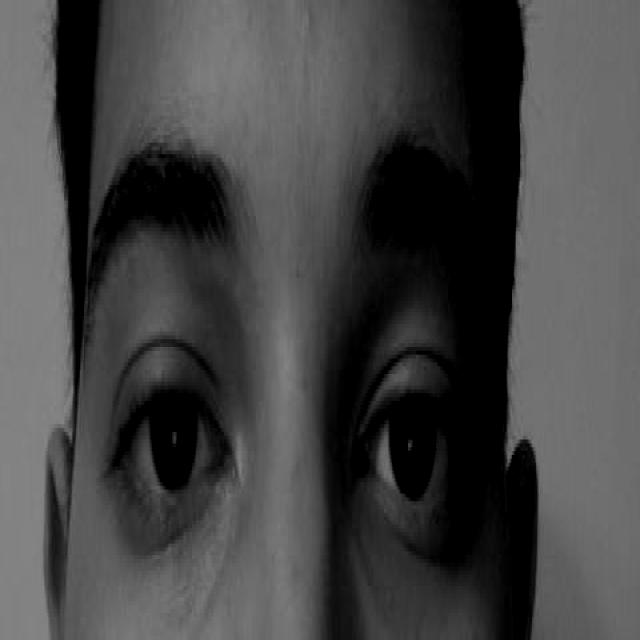real: (92, 214, 490, 602)
